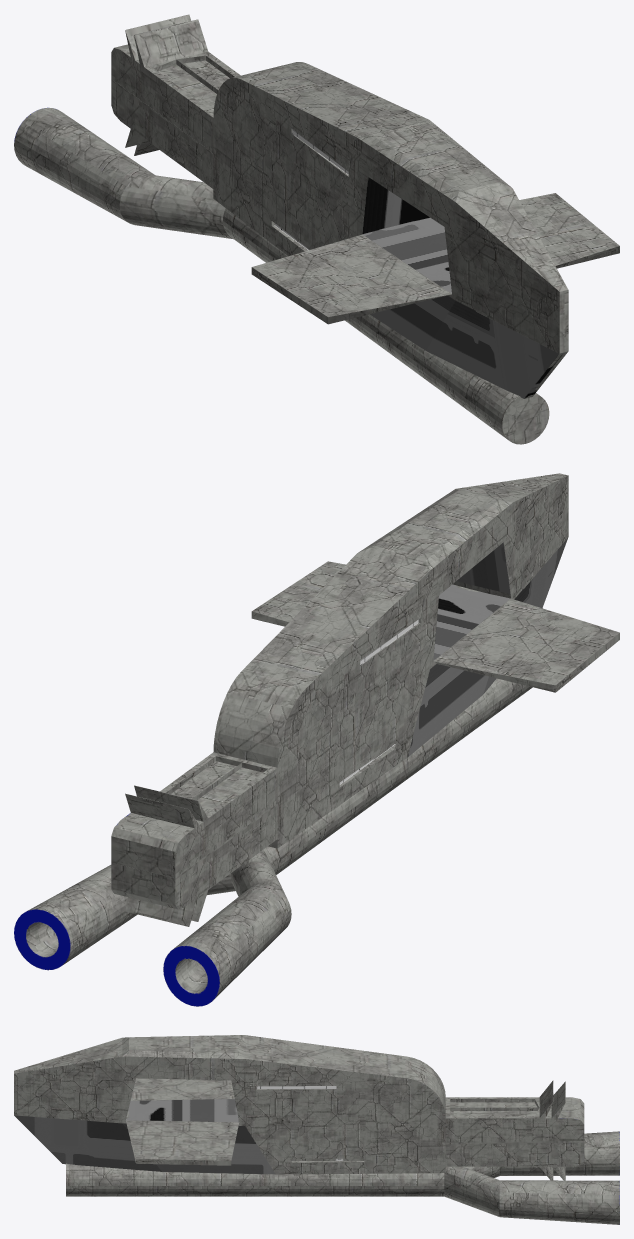
File: liberty_gb.fbx
The picture shows the model from 3 angles, top to bottom: view 1: azimuth 30°, elevation 25°; view 2: azimuth 150°, elevation 25°; view 3: azimuth 270°, elevation 25°; orthographic projection. The views are drawn at different scales.
Visible parts, largest first — view 1: BottomCylinder; view 2: BottomCylinder; view 3: BottomCylinder.
Part boxes in pixels (x1=…): BottomCylinder: x1=14, y1=14, x2=619, y2=444; BottomCylinder: x1=14, y1=473, x2=619, y2=1006; BottomCylinder: x1=14, y1=1035, x2=619, y2=1224.
Bounding box in the file's own units: 12361 × 8847 × 31493.
